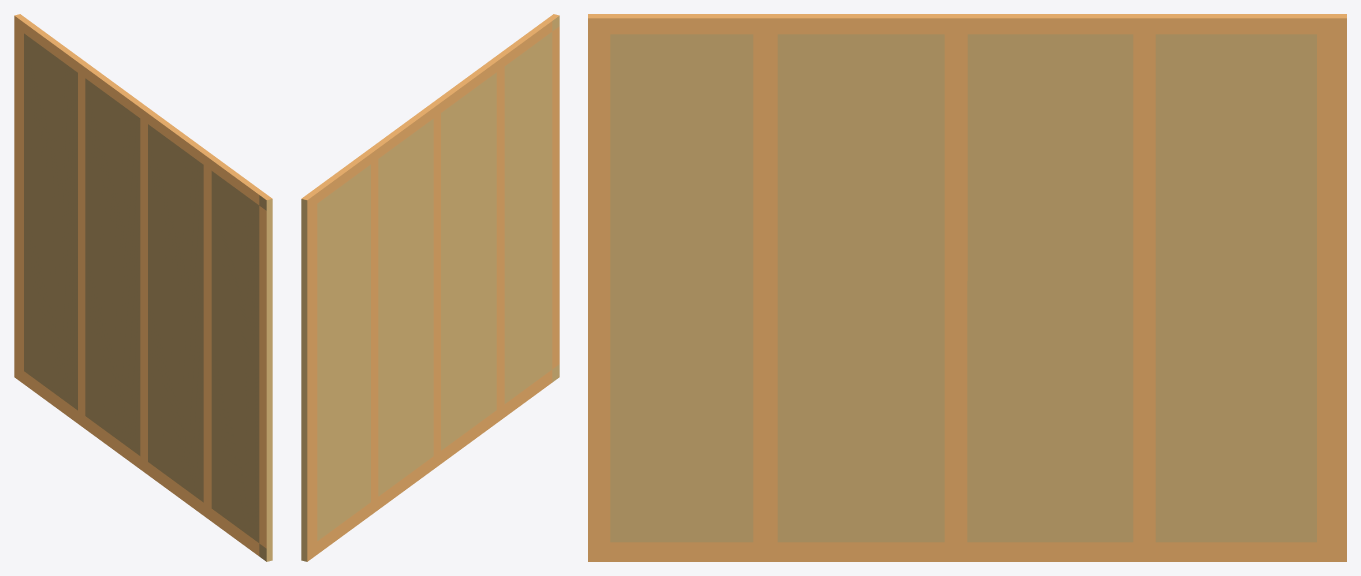
File: Wall1.fbx
3 views of the same model, side by side, from view 1: azimuth 30°, elevation 25°; view 2: azimuth 150°, elevation 25°; view 3: azimuth 270°, elevation 25° (orthographic). The views are drawn at different scales.
Visible parts, largest first — view 1: Cube.010; view 2: Cube.010; view 3: Cube.010.
Part boxes in pixels (x1,y1,x2,y2): Cube.010: [14, 14, 272, 561]; Cube.010: [301, 14, 559, 561]; Cube.010: [588, 14, 1346, 561].
Size of the model in its own units: 7.15 by 407 by 515.
